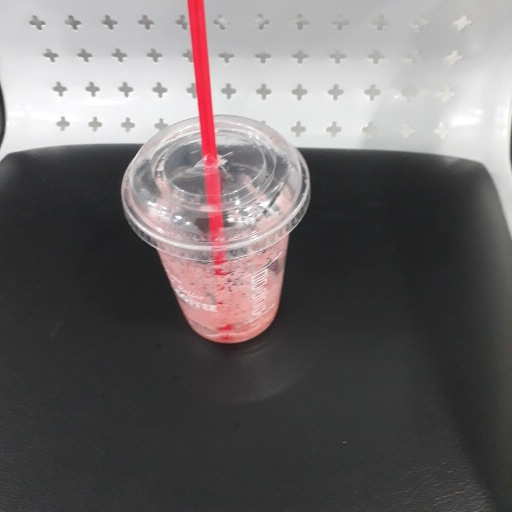Plastic_2: (118, 2, 313, 345)
